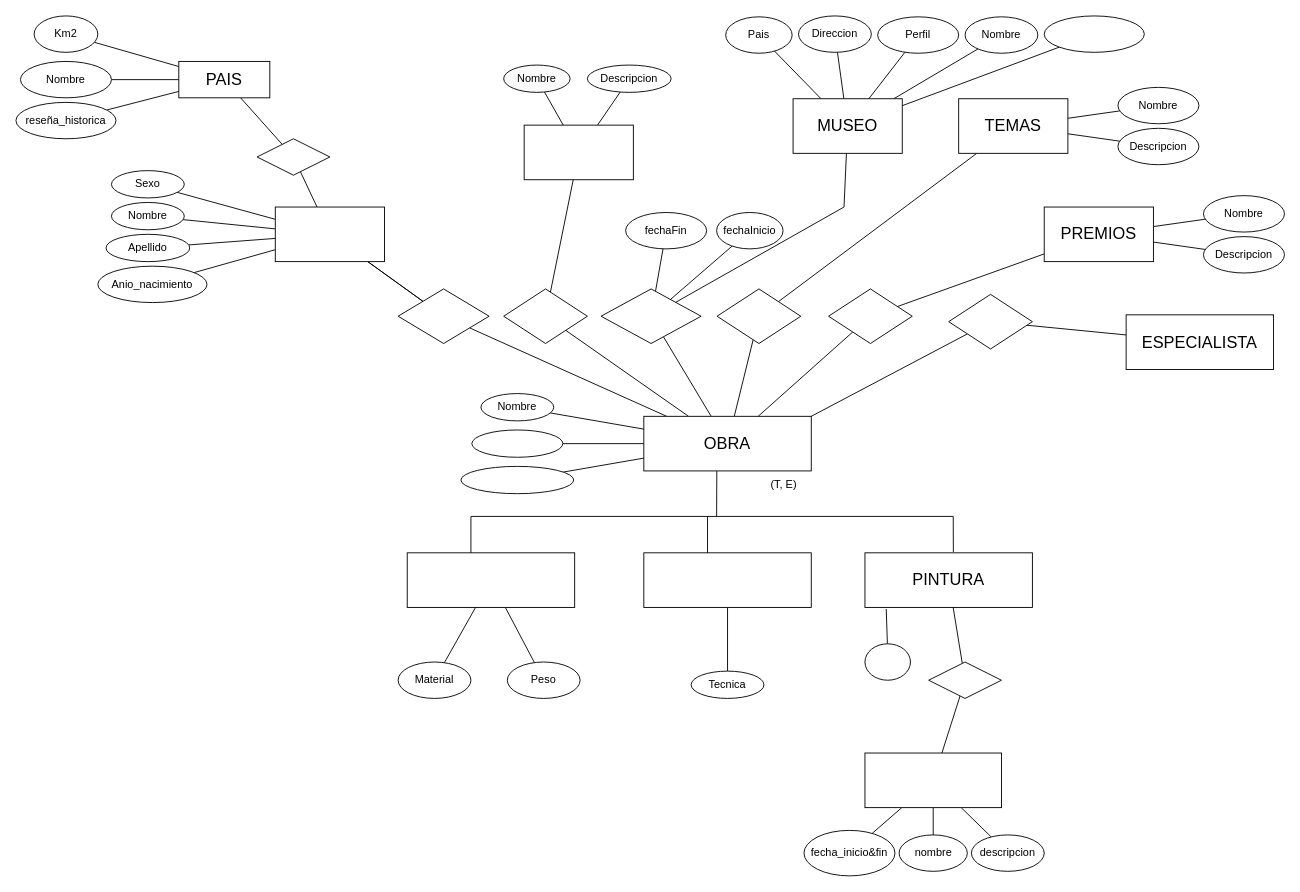
This 1300x892 diagram has some shape labels left out. The centre of each missing label's shape, as x and y in pixels:
"Anio_de_creacion" belongs at point 517,479.
"AUTOR" belongs at point 329,234.
"CATEGORIA" belongs at point 578,152.
"ESCULTURA" belongs at point 490,579.
"Estilo" belongs at point 887,661.
"FOTOGRAFIA" belongs at point 727,579.
"Horarios_visita" belongs at point 1093,33.
"nacio_en" belongs at point 293,156.
"PERIODO_PICTORICO" belongs at point 932,780.
"pertenece" belongs at point 545,316.
"realizada" belongs at point 443,316.
"recibio" belongs at point 870,316.
"relacionada" belongs at point 758,316.
"reseñada" belongs at point 990,321.
"se_encuentra" belongs at point 650,316.
"Tamaño" belongs at point 517,443.
"tiene" belongs at point 964,679.
